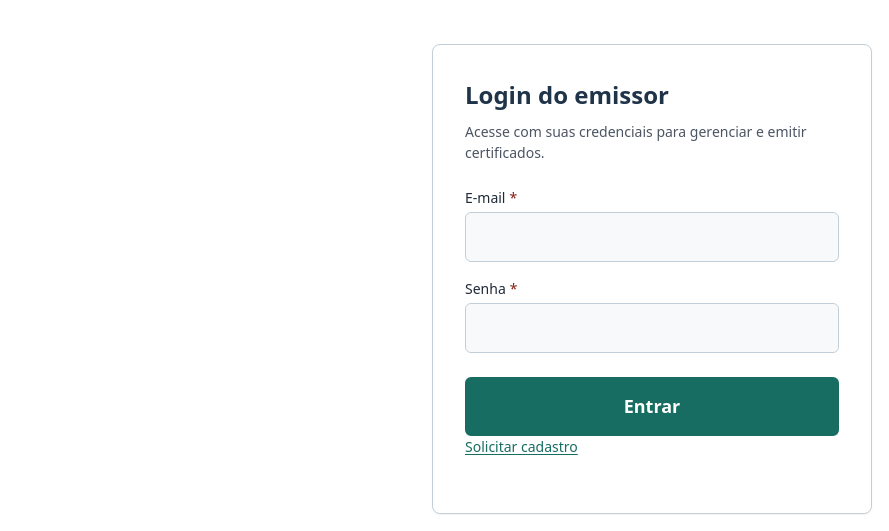
LoginPage (CT1/CT3) › realiza login com sucesso como EMISSOR e navega para /emissor/painel
Type "emissor@timbro.test" into the field labelled "E-mail*" at point(652, 237), box [465,212,839,262]
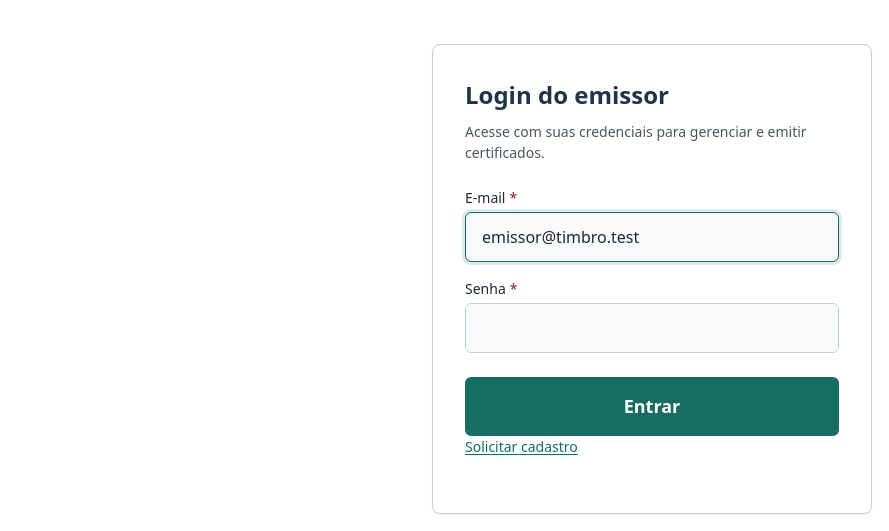
Type "Senha@123" into the password field labelled "Senha*" at point(652, 328), box [465,303,839,353]
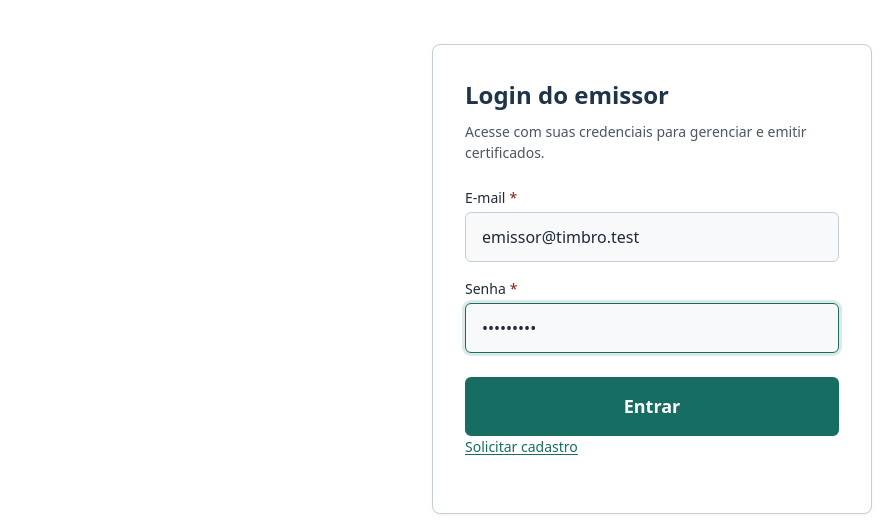
Click the button "Entrar" at point(652, 406), box [465,377,839,436]
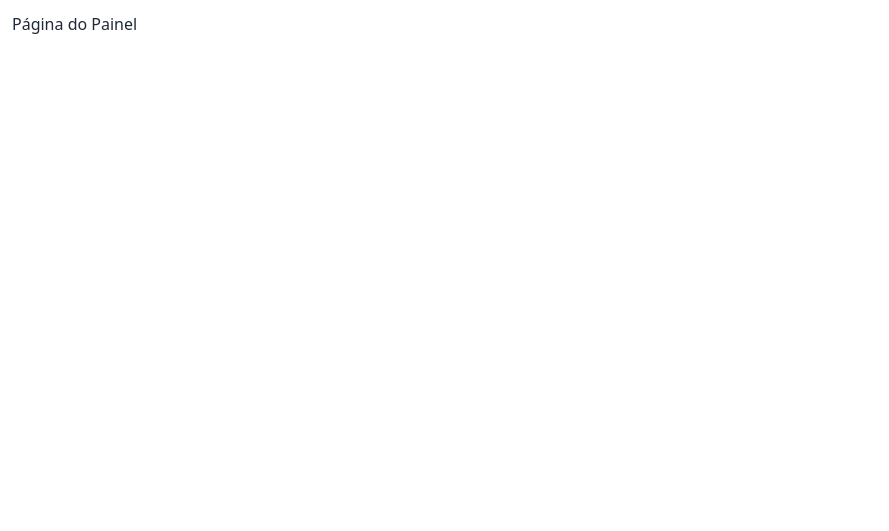
Expected: the text "Página do Painel" is shown, [12,13,137,35]
